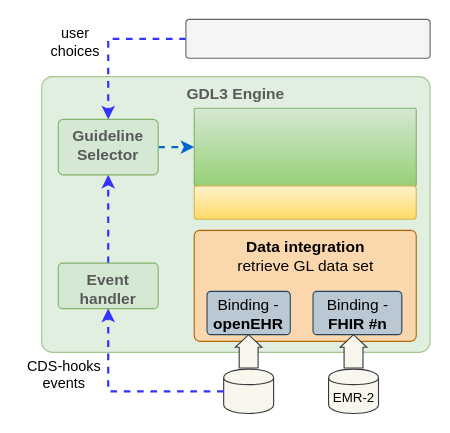
Some shapes in this 450 by 433 pixel diagram are drawn without their labels. Each missing label, with the centre of its shape:
"Custom dataset (template)" goes at point 304,202.
"DLM Chadsvasc2 (patient A)" goes at point 304,146.
"EMR-1" goes at point 248,390.
"GDL application" goes at point 307,38.
